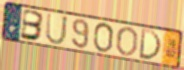9: (70, 18, 90, 50)
B: (19, 8, 46, 42)
D: (138, 27, 163, 62)
O: (115, 26, 140, 58), (92, 22, 115, 53)
U: (45, 12, 69, 47)
